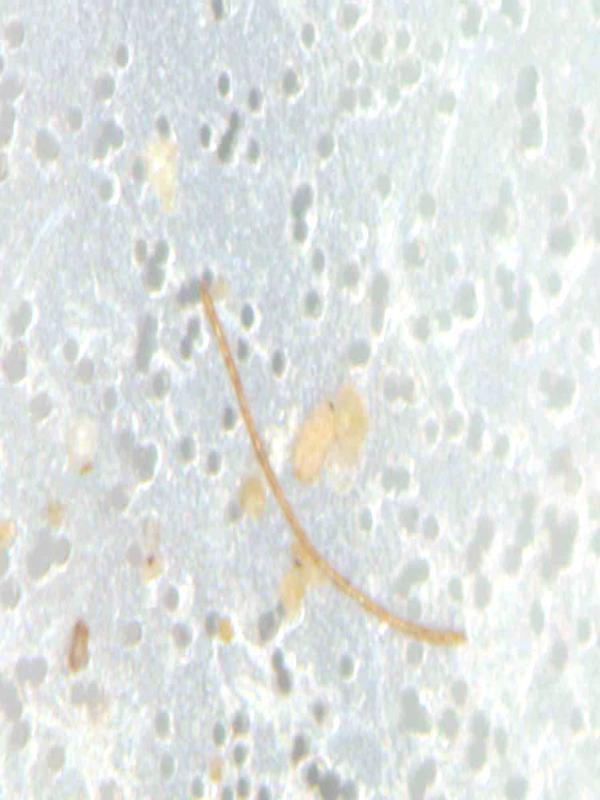microplastic: (2, 3, 598, 799), (198, 279, 469, 656)
